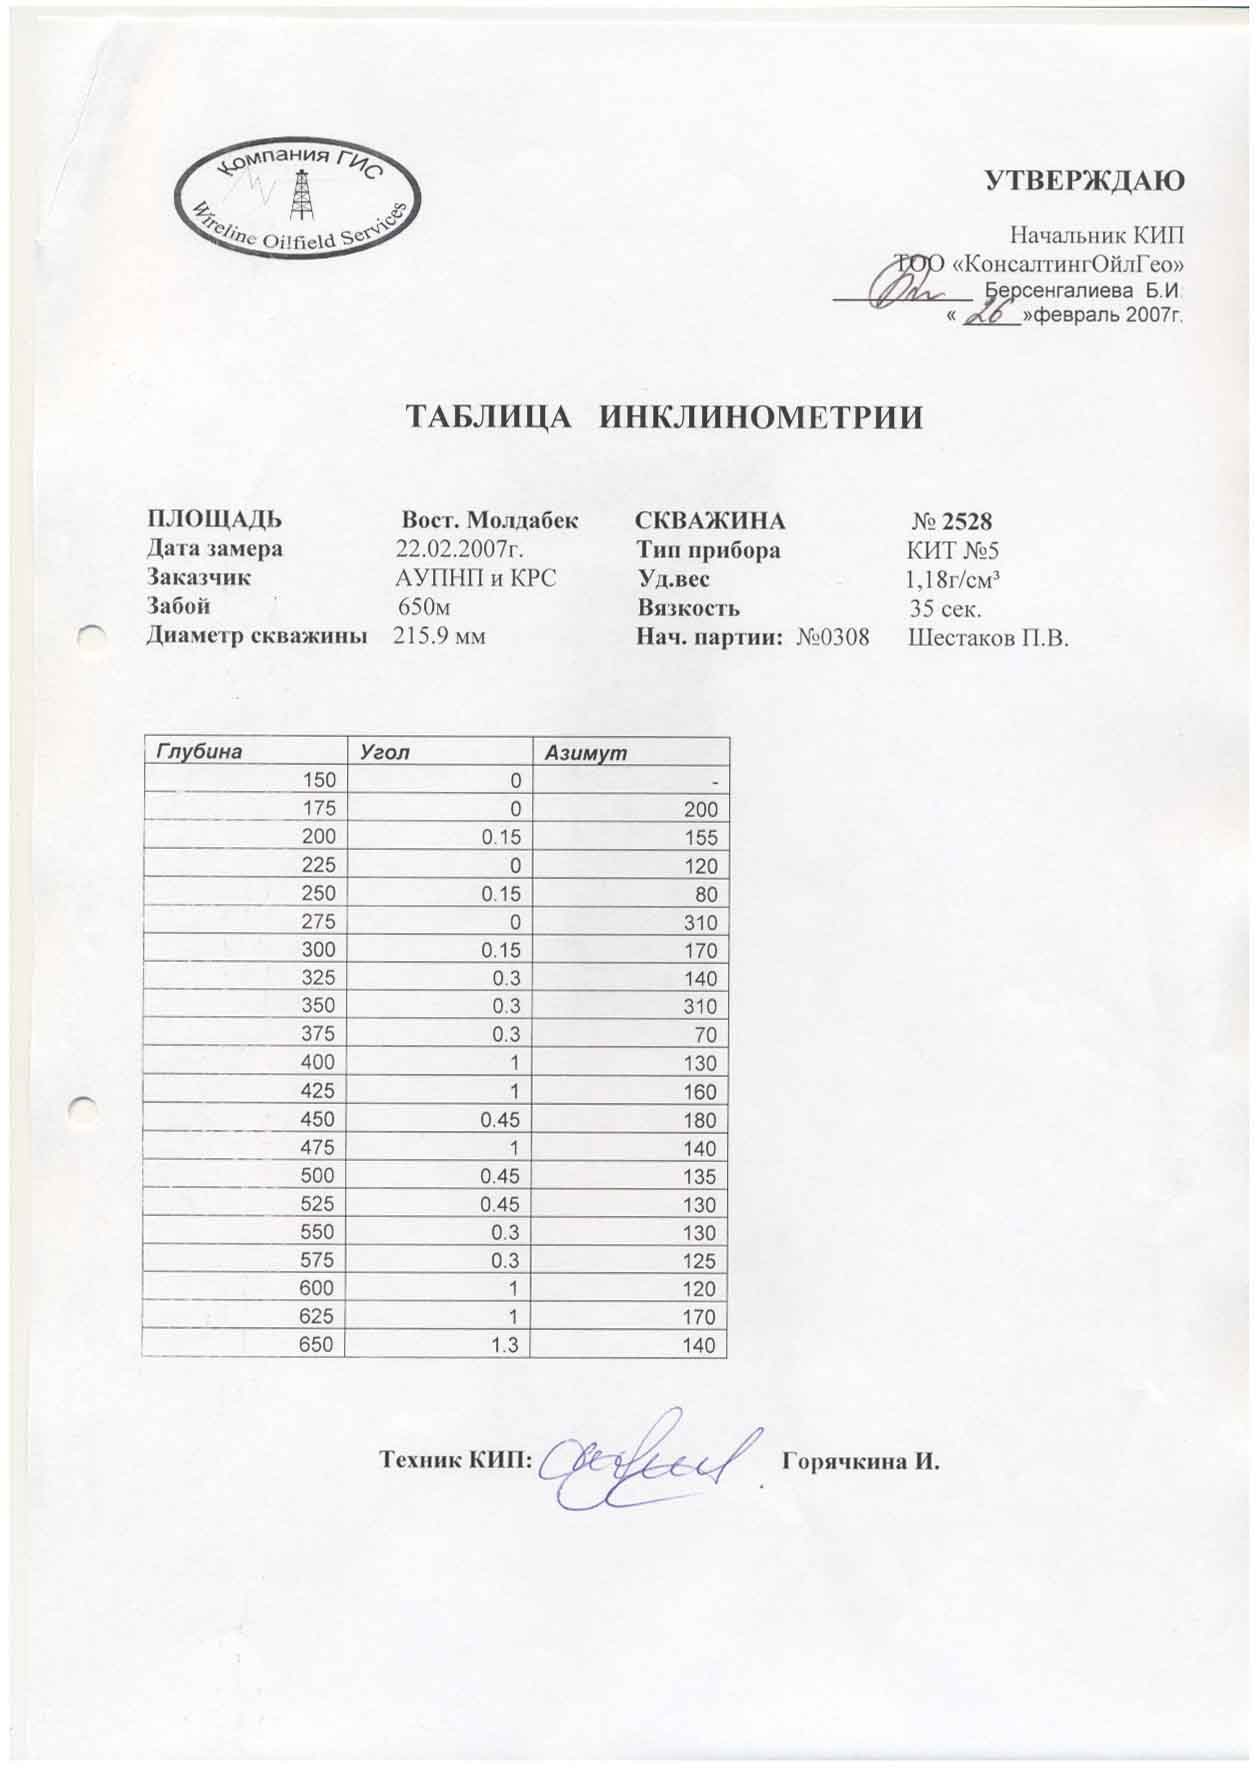Bordered: (145, 733, 731, 1362)
